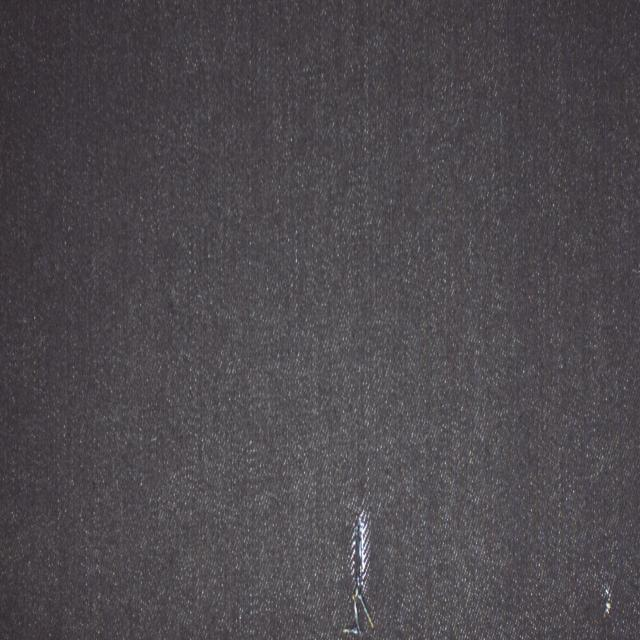Hole: (344, 511, 375, 638)
Knot: (604, 585, 615, 620)
